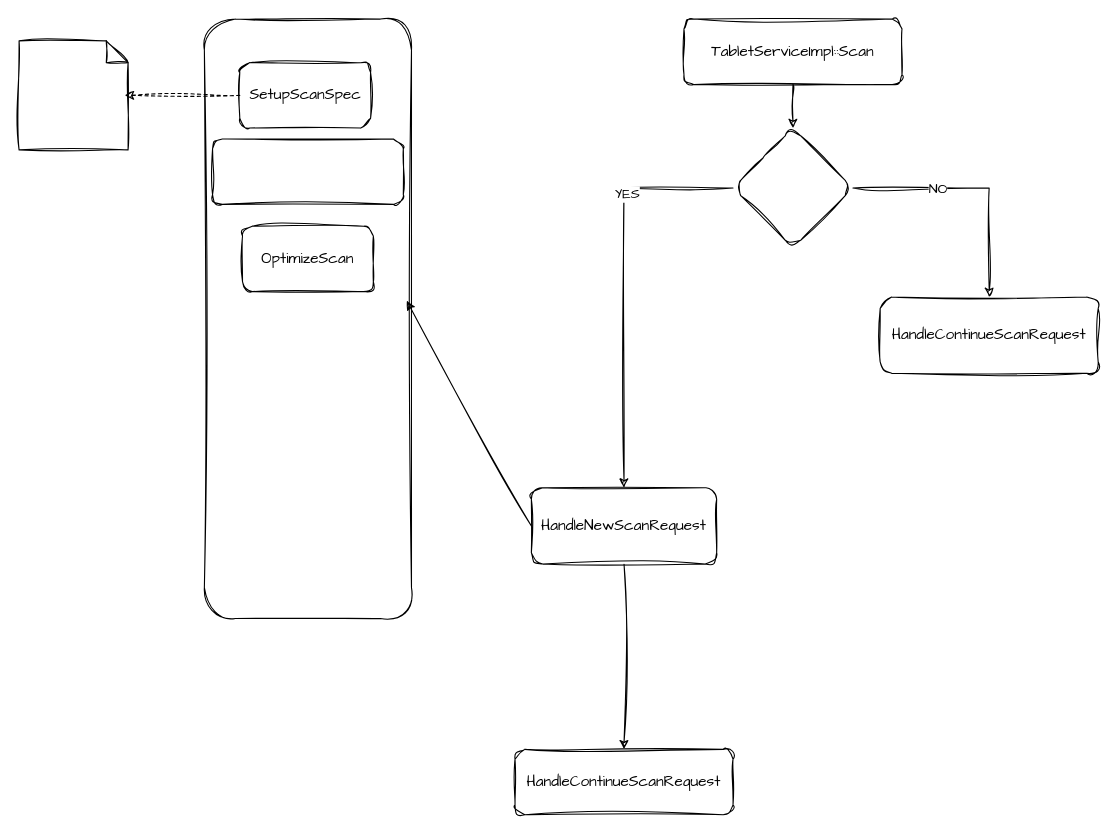
Some shapes in this 1117 by 834 pixel diagram are drawn without their labels. The box of each missing label's shape, as (x1, y1, x2, y2) in pixels:
Is New Request?: (732, 127, 853, 248)
PruneInlistValuesIfPossible: (211, 138, 403, 204)
设置列谓词以及range 谓词等: (18, 40, 128, 150)
